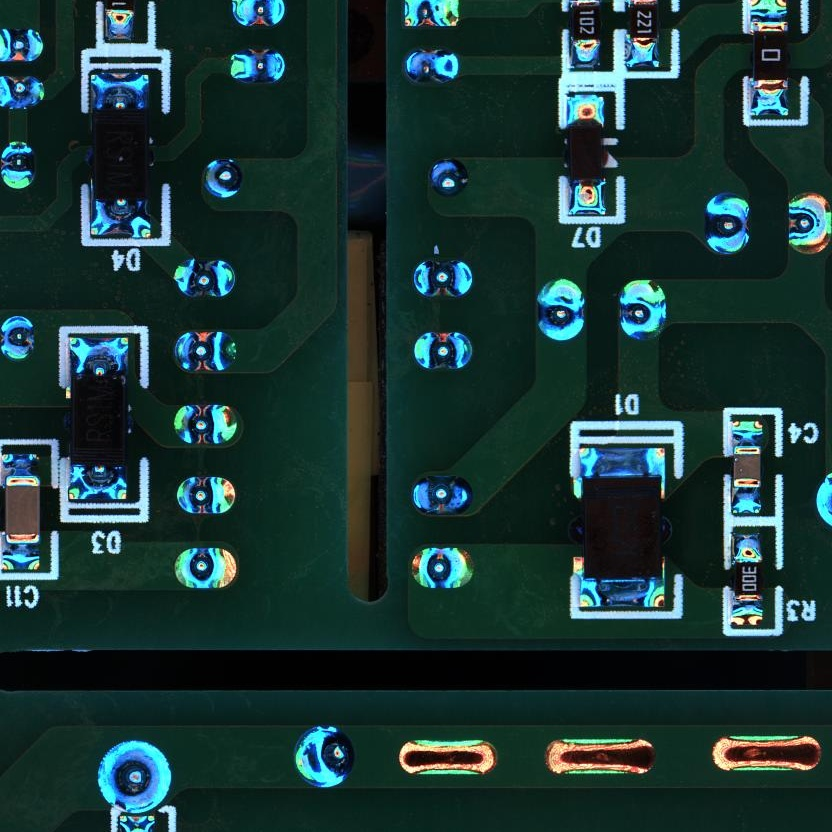spot: (95, 737, 174, 814), (290, 724, 357, 792), (535, 275, 587, 344), (617, 276, 668, 343), (703, 191, 751, 256), (407, 545, 477, 589), (787, 191, 832, 256), (409, 474, 475, 517), (172, 331, 237, 374), (171, 256, 237, 298), (173, 546, 237, 589), (171, 403, 237, 444), (175, 475, 237, 516), (412, 331, 473, 372), (410, 258, 473, 297), (226, 47, 286, 86), (404, 48, 460, 86), (1, 138, 39, 190), (427, 156, 468, 201), (201, 156, 243, 198), (1, 24, 45, 64), (1, 312, 36, 361), (1, 73, 45, 110), (230, 1, 286, 29), (403, 1, 459, 26)
